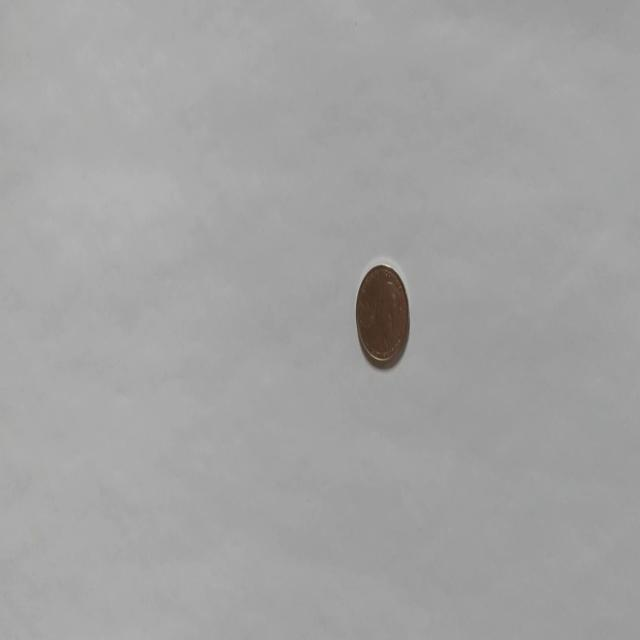seribu rupiah koin: (354, 258, 410, 369)
